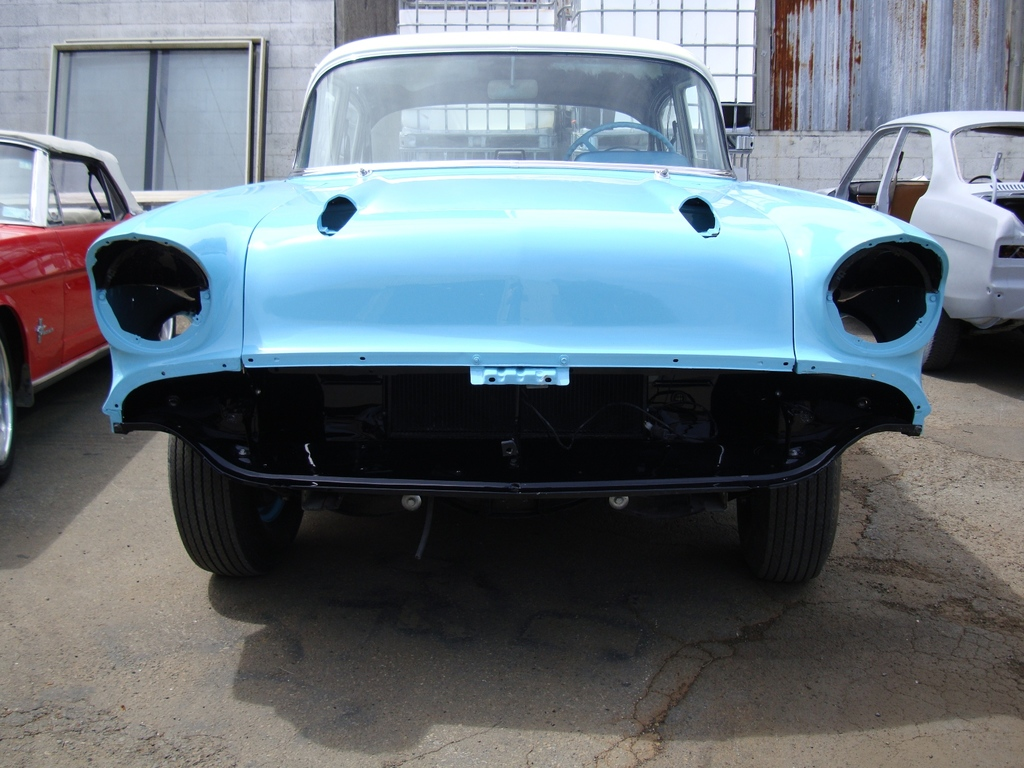cars: (80, 41, 926, 602), (0, 128, 152, 497), (812, 105, 1022, 349)
